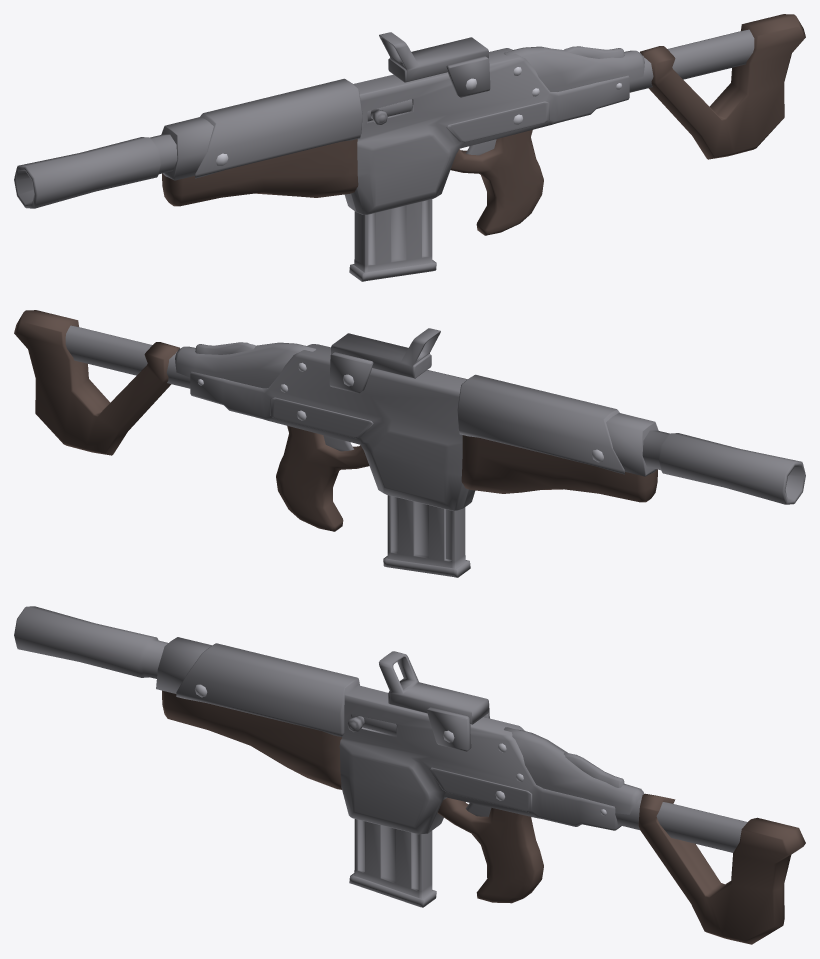
File: Zeus.fbx
3 renders of one model, top to bottom at view 1: azimuth 30°, elevation 25°; view 2: azimuth 150°, elevation 25°; view 3: azimuth 330°, elevation 25°, orthographic.
Visible parts, largest first — view 1: Cube.037, Cube.043, Cube.046, Cube.039, Cube.048, Cube.044, Cube.038, Cube.049, Cube.040, Cube.042, Cube.047, Cube.041; view 2: Cube.037, Cube.043, Cube.046, Cube.039, Cube.048, Cube.044, Cube.038, Cube.049, Cube.040, Cube.042, Cube.047, Cube.041 (+1 smaller); view 3: Cube.037, Cube.043, Cube.046, Cube.039, Cube.048, Cube.038, Cube.044, Cube.049, Cube.040, Cube.042, Cube.047, Cube.041.
Boxes of the visible parts, x1,y1,x2,y2 form: Cube.037: (344, 48, 629, 214); Cube.043: (640, 14, 805, 159); Cube.046: (195, 78, 362, 178); Cube.039: (162, 139, 358, 206); Cube.048: (14, 134, 177, 208); Cube.044: (349, 199, 436, 281); Cube.038: (450, 130, 543, 235); Cube.049: (379, 32, 490, 97); Cube.040: (504, 46, 644, 91); Cube.042: (629, 29, 754, 92); Cube.047: (161, 117, 213, 180); Cube.041: (564, 46, 624, 58); Cube.037: (190, 344, 475, 510); Cube.043: (14, 310, 179, 455); Cube.046: (457, 374, 624, 474); Cube.039: (461, 435, 657, 502); Cube.048: (642, 430, 805, 504); Cube.044: (383, 495, 470, 577); Cube.038: (276, 426, 369, 531); Cube.049: (329, 328, 440, 393); Cube.040: (175, 342, 315, 388); Cube.042: (65, 325, 190, 388); Cube.047: (606, 413, 658, 476); Cube.041: (195, 342, 255, 354); Cube.037: (339, 685, 621, 834); Cube.043: (638, 793, 805, 944); Cube.046: (176, 643, 359, 736); Cube.039: (162, 690, 341, 789); Cube.048: (14, 606, 168, 678); Cube.038: (438, 797, 543, 903); Cube.044: (349, 819, 436, 907); Cube.049: (379, 651, 489, 751); Cube.040: (504, 727, 643, 814); Cube.042: (615, 796, 747, 852); Cube.047: (156, 637, 211, 693); Cube.041: (564, 752, 624, 787).
Size of the model in its own units: 104 by 30.09 by 6.35.
